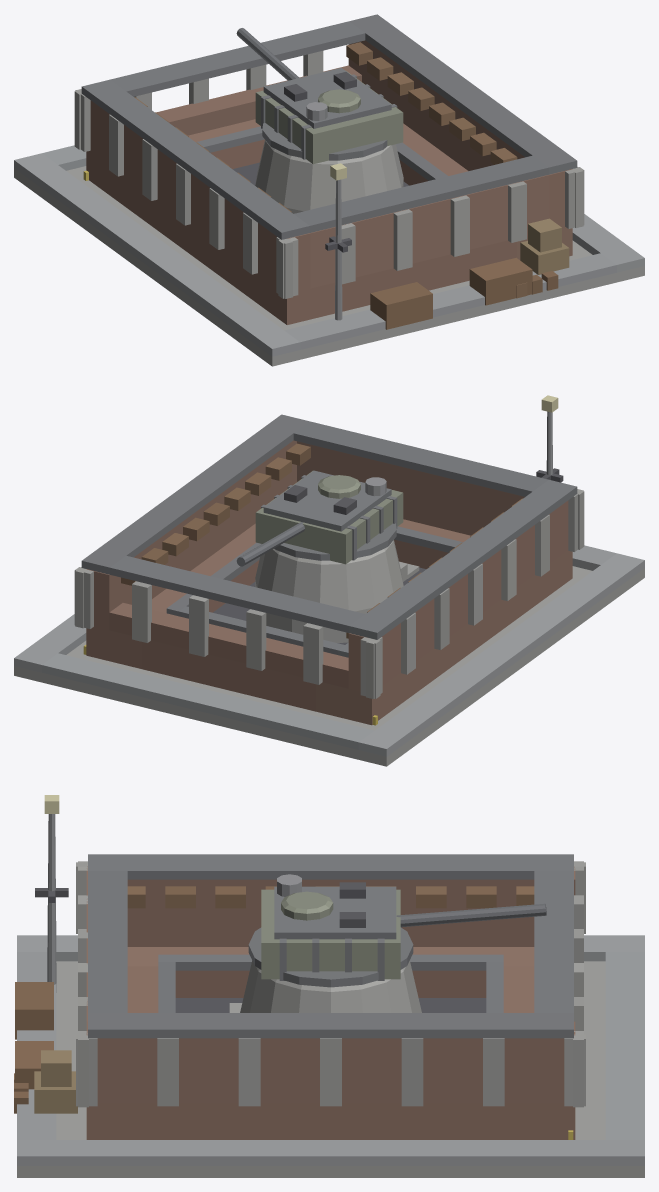
File: chinese_gun.glb
3 views of the same model, one above another, from view 1: azimuth 30°, elevation 25°; view 2: azimuth 150°, elevation 25°; view 3: azimuth 270°, elevation 25° (orthographic). The views are drawn at different scales.
Visible parts, largest first — view 1: revetment_cap, revetment, apron_rim, platform, revetment_piers, turret, apron, barbette, lockers, sandbags, crates, platform_cap (+2 smaller); view 2: revetment_cap, revetment, apron_rim, platform, revetment_piers, apron, turret, barbette, sandbags, platform_cap, mast, barrel (+1 smaller); view 3: revetment, revetment_cap, apron_rim, platform, apron, revetment_piers, turret, barbette, platform_cap, sandbags, lockers, crates (+3 smaller).
Boxes of the visible parts, x1,y1,x2,y2 form: revetment_cap: (81,14,577,239); revetment: (90,40,572,291); apron_rim: (14,145,644,356); platform: (86,119,572,324); revetment_piers: (74,51,584,298); turret: (255,68,403,164); apron: (14,166,644,366); barbette: (255,123,403,213); lockers: (370,257,558,329); sandbags: (134,42,517,212); crates: (520,218,569,274); platform_cap: (196,126,447,180); revetment_cap: (81,414,577,639); revetment: (86,440,568,691); apron_rim: (14,545,644,756); platform: (86,519,572,725); revetment_piers: (74,489,584,698); apron: (14,566,644,766); turret: (255,470,403,564); barbette: (255,523,403,642); sandbags: (121,443,522,638); platform_cap: (166,526,462,657); mast: (536,395,563,482); barrel: (236,522,304,566); revetment: (86,866,575,1102); revetment_cap: (88,854,573,1038); apron_rim: (17,935,644,1165); platform: (86,947,575,1139); apron: (17,961,644,1177); revetment_piers: (76,861,585,1107); turret: (261,874,400,980); barbette: (240,927,421,1012); platform_cap: (158,954,503,1012); sandbags: (127,886,534,908); lockers: (14,982,53,1113); crates: (34,1050,77,1113).
Size of the model in its own units: 12 by 5.22 by 14.47.
